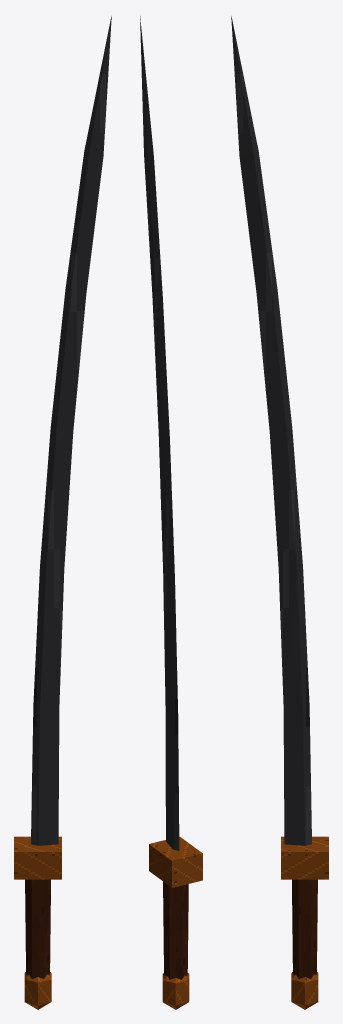
The model's file is sable.glb.
3 views of the same model, side by side, from view 1: azimuth 90°, elevation 25°; view 2: azimuth 210°, elevation 25°; view 3: azimuth 270°, elevation 25° (orthographic). The views are drawn at different scales.
Visible parts, largest first — view 1: hoja, empunadura, guarda, pomo; view 2: hoja, empunadura, guarda, pomo; view 3: hoja, empunadura, guarda, pomo.
Part boxes in pixels (x1,y1,x2,y2): hoja: (31, 16, 111, 845); empunadura: (25, 879, 50, 978); guarda: (14, 836, 61, 879); pomo: (24, 972, 51, 1009); hoja: (140, 16, 179, 850); empunadura: (163, 881, 188, 979); guarda: (149, 836, 202, 887); pomo: (162, 973, 189, 1009); hoja: (231, 16, 311, 845); empunadura: (292, 879, 317, 978); guarda: (281, 836, 328, 879); pomo: (291, 972, 318, 1009).
Size of the model in its own units: 0.03 by 0.9 by 0.08.
Materials: 1 (1 with a texture image).
